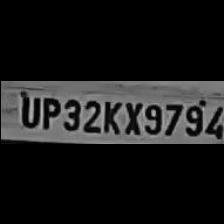2: (80, 96, 100, 132)
3: (59, 94, 79, 130)
4: (203, 100, 221, 138)
7: (160, 99, 180, 135)
9: (181, 100, 203, 136), (139, 100, 161, 134)
K: (100, 97, 120, 135)
P: (38, 93, 58, 129)
U: (16, 92, 38, 128)
X: (120, 99, 140, 136)
